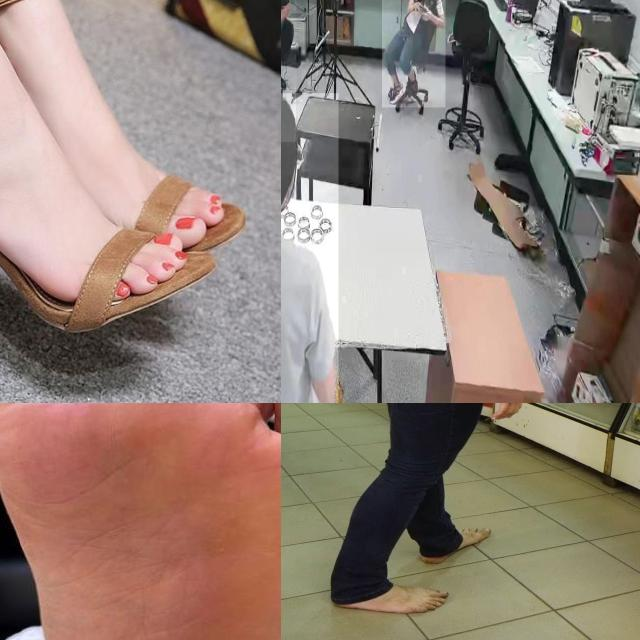Barefoots: (0, 403, 281, 640), (333, 584, 449, 614), (422, 527, 492, 564)
Sandals: (0, 0, 217, 343)
hand_noglove: (422, 5, 432, 21), (413, 0, 422, 12)
head_nohelmet: (281, 88, 296, 143)
person: (281, 93, 338, 403), (382, 0, 446, 108)
shoes: (388, 79, 407, 109), (408, 63, 419, 99), (281, 60, 287, 92)
